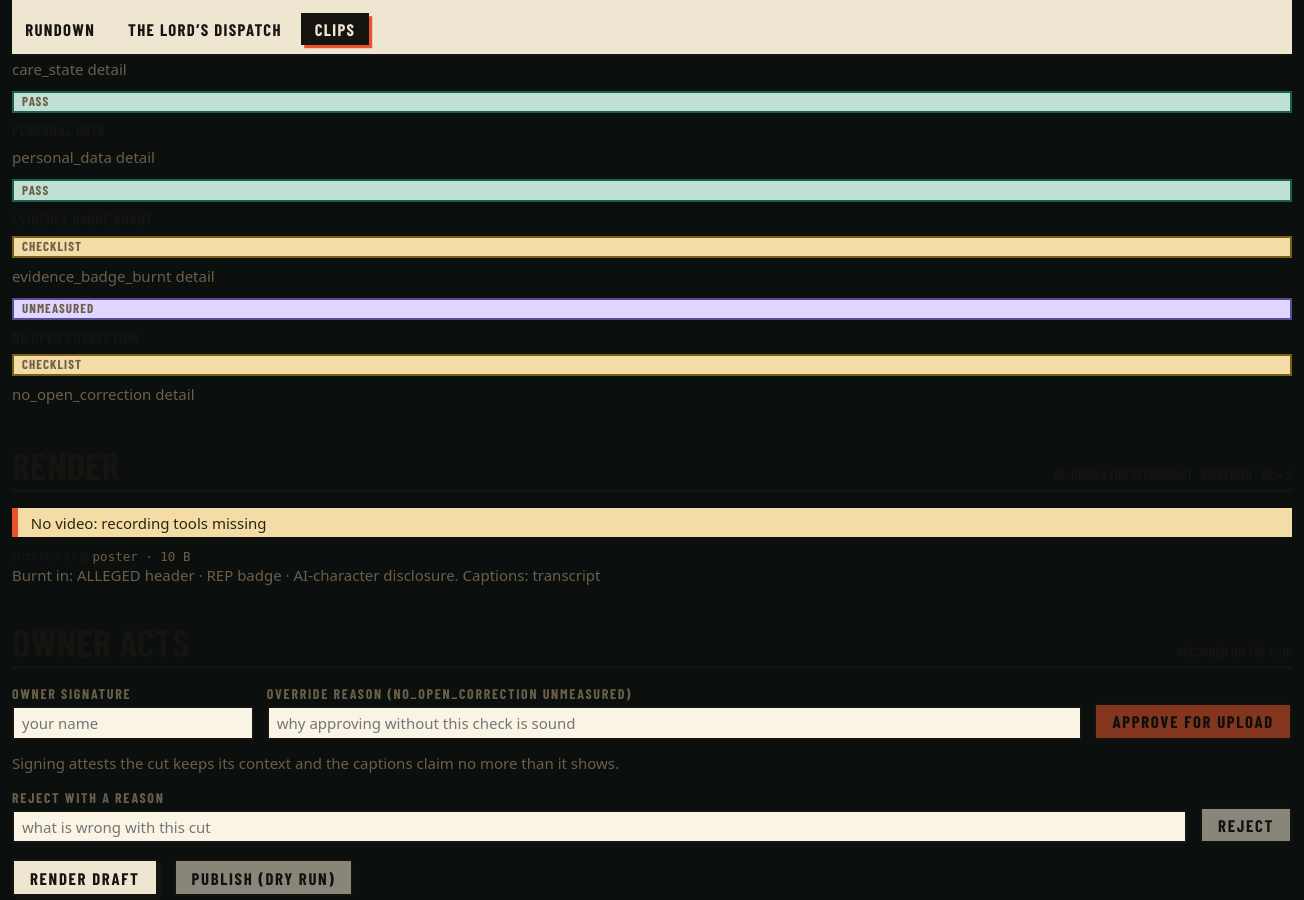
Scenario: On Air · Clips › asks for an override reason when a check is unmeasured
The width and height of the screenshot is (1304, 900).
(page scrolled)
Type "Owner" into the field with placeholder "your name".
click(133, 723); type("Owner")  # box [12,706,254,740]
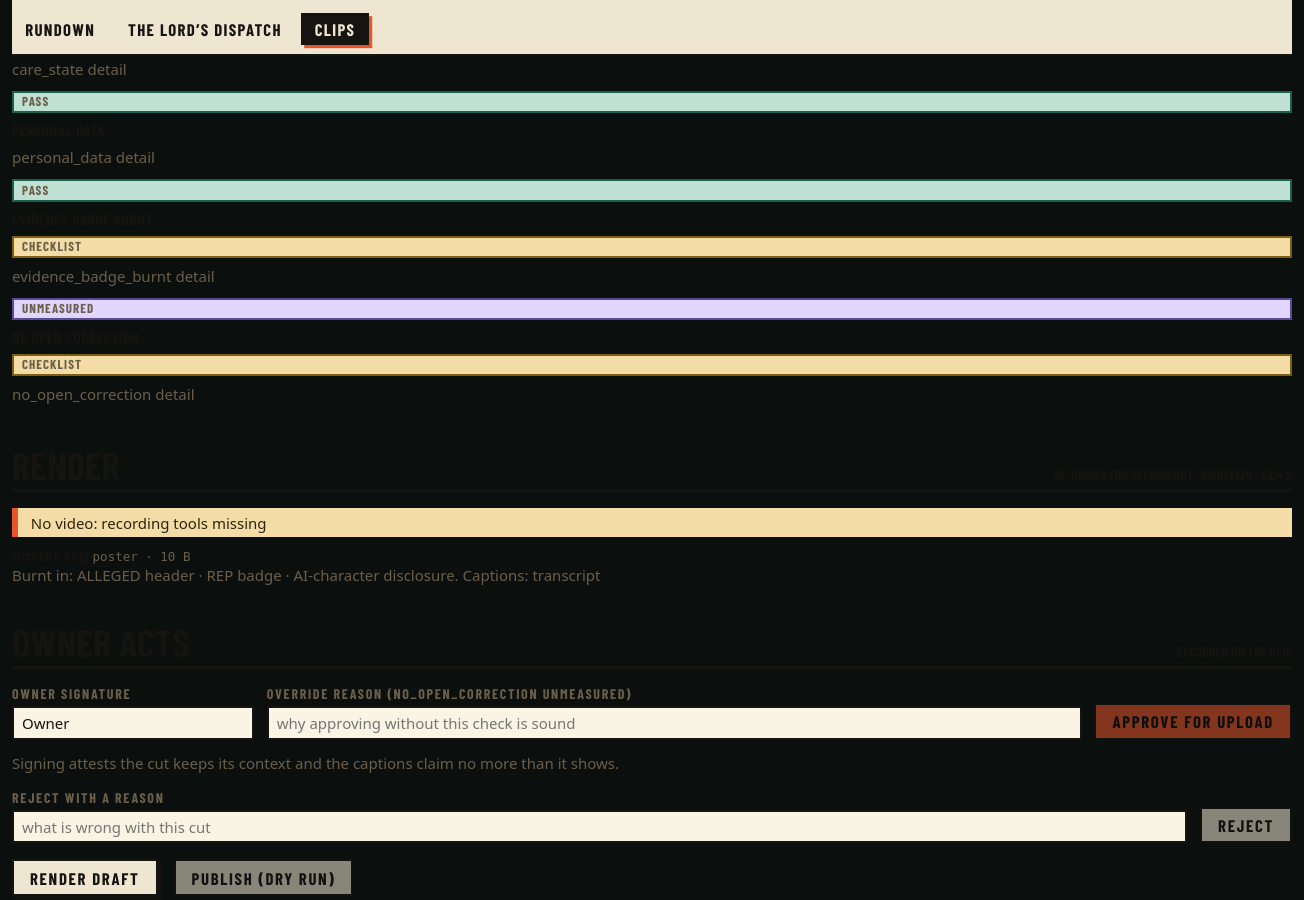
Expected: the 1st button named "Approve for upload" is disabled, [1094,703,1292,740]
Type "fictional demo case" into the field with placeholder "why approving without this check is sound".
click(674, 723); type("fictional demo case")  # box [267,706,1082,740]
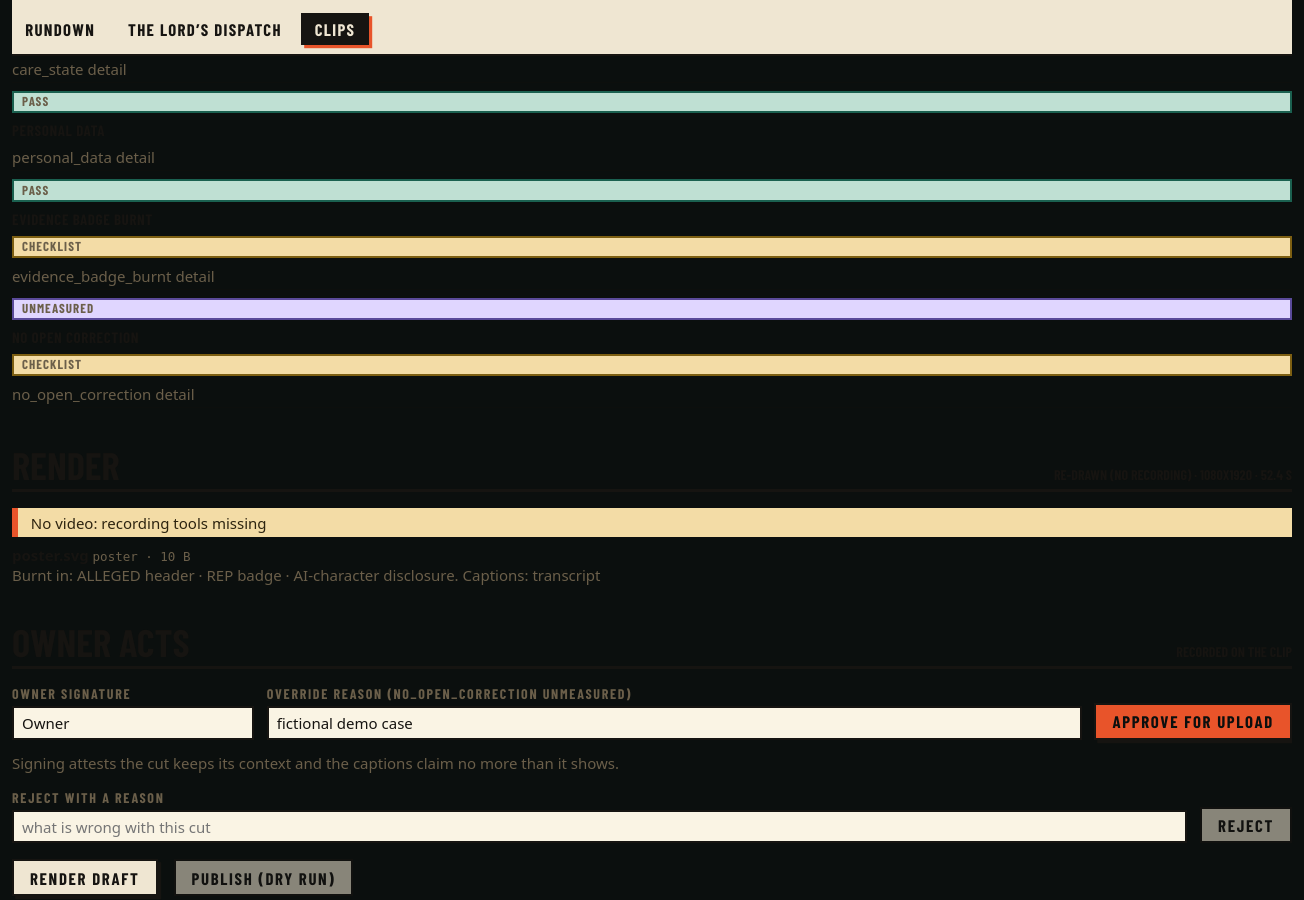
Result: the 1st button named "Approve for upload" is enabled at [1094,703,1292,740]
